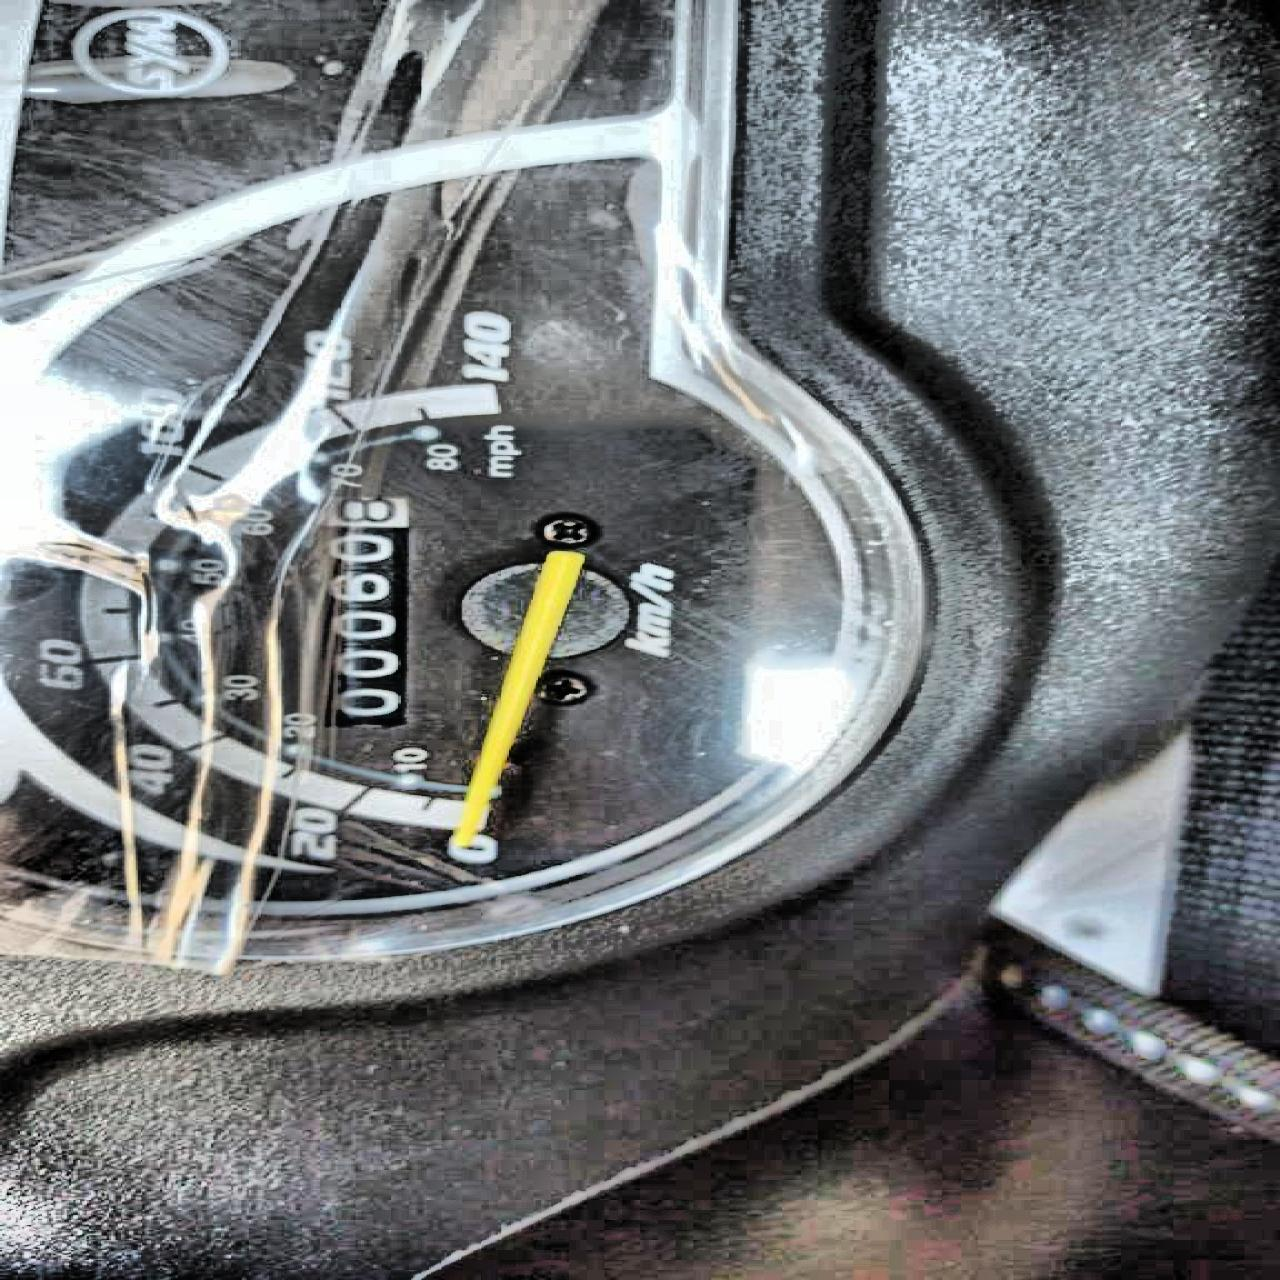0: (328, 610, 395, 639), (332, 686, 397, 715), (332, 648, 397, 678), (327, 533, 392, 563)
6: (327, 572, 389, 600)
8: (335, 497, 394, 522)
odometer: (313, 492, 409, 728)
